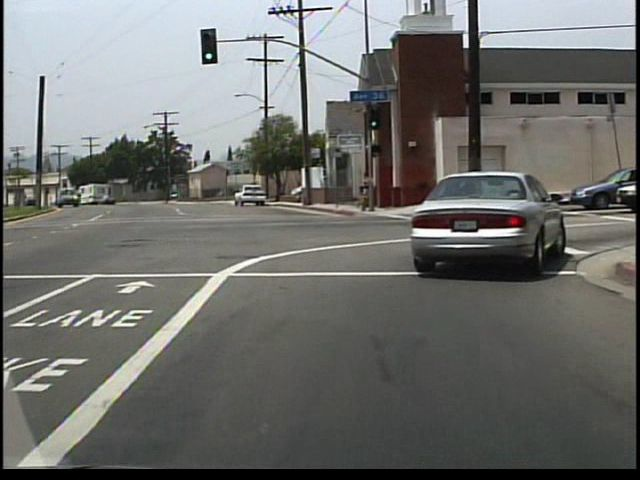person: (356, 172, 371, 212)
